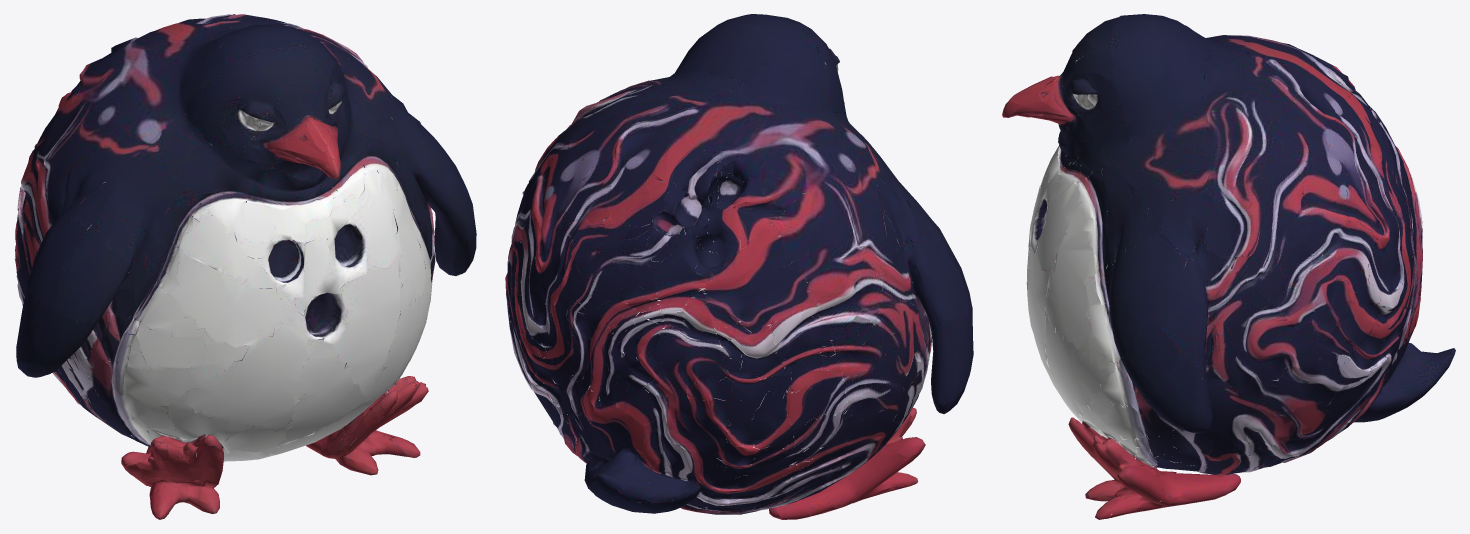
3 renders of one model, left to right at view 1: azimuth 30°, elevation 25°; view 2: azimuth 150°, elevation 25°; view 3: azimuth 270°, elevation 25°, orthographic. The views are drawn at different scales.
Parts seen in each view (by area): view 1: Mesh_0; view 2: Mesh_0; view 3: Mesh_0.
Boxes of the visible parts, x1,y1,x2,y2 form: Mesh_0: (15, 14, 476, 519); Mesh_0: (505, 14, 973, 519); Mesh_0: (1002, 14, 1455, 519).
Bounding box in the file's own units: 1.9 × 1.81 × 1.71.
Materials: 1 (1 with a texture image).
